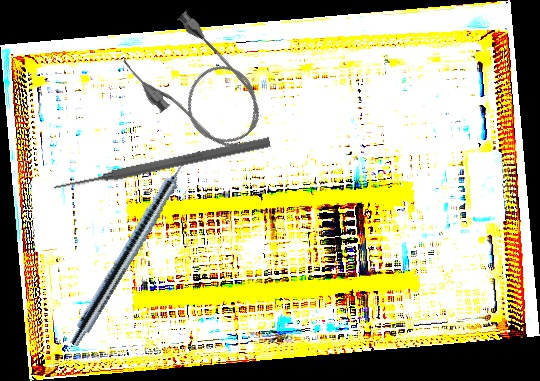Cannula: (116, 4, 278, 168)
Handpiece: (66, 142, 203, 351)
Pusher: (52, 134, 272, 195)
